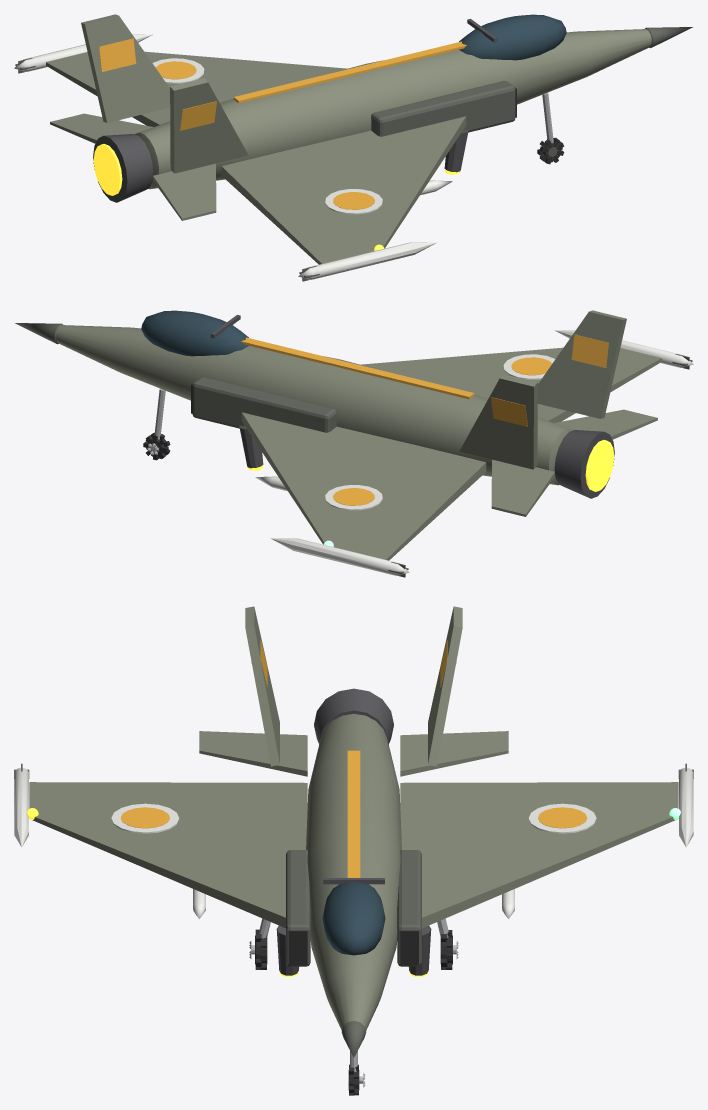
The model's file is fighter_orange.glb.
The picture shows the model from 3 angles, top to bottom: view 1: azimuth 30°, elevation 25°; view 2: azimuth 150°, elevation 25°; view 3: azimuth 270°, elevation 25°; orthographic projection. The views are drawn at different scales.
Parts seen in each view (by area): view 1: Body, LandingGearN; view 2: Body, LandingGearN; view 3: Body.
Part boxes in pixels (<box>): Body: <box>14,14,692,281</box>; LandingGearN: <box>537,92,564,164</box>; Body: <box>15,310,693,577</box>; LandingGearN: <box>143,388,170,460</box>; Body: <box>14,606,693,1057</box>.
Size of the model in its own units: 5.13 by 1.77 by 4.4.
1 material, 1 textured.
